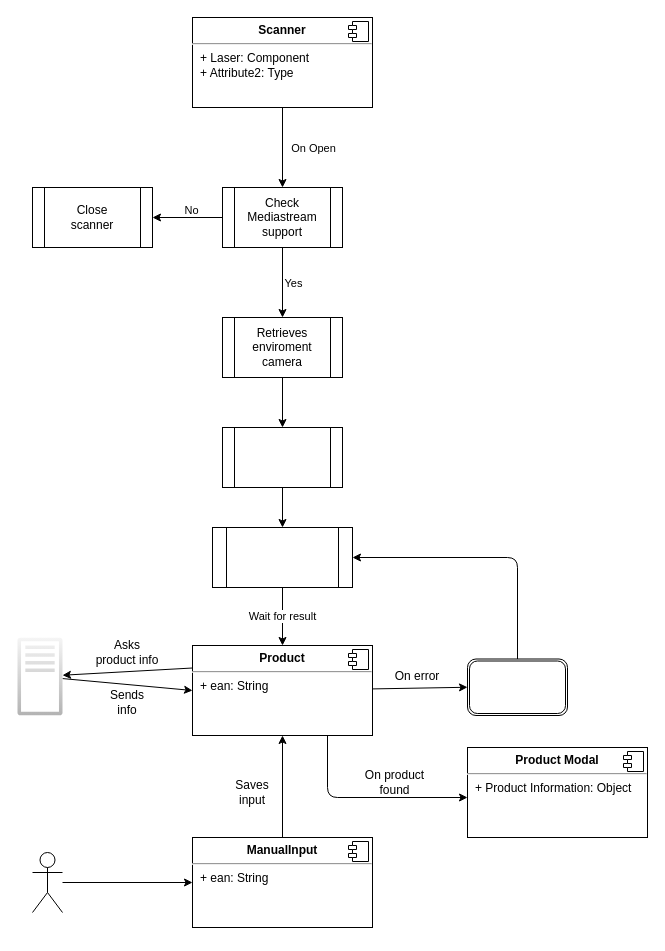
Image size: 665x951. Some labels were removed from this diagram. Each missing label, with the box of its shape:
Customer: (32, 852, 62, 912)
Product not found: (466, 658, 568, 716)
Sets ideal resolution: (222, 426, 342, 488)
Start reader for every type of barcode: (212, 526, 352, 588)
